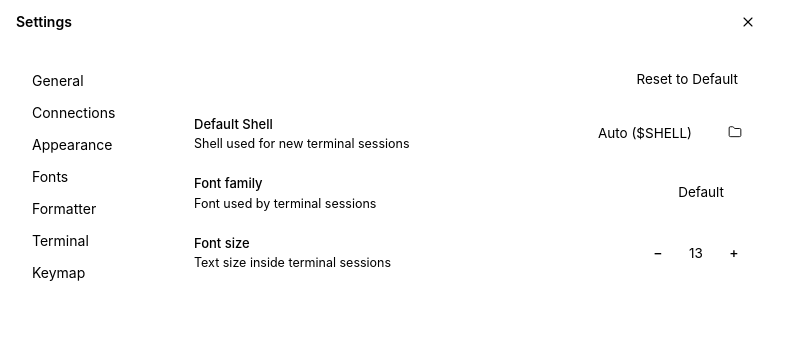
Test: SettingsView Terminal pane › loads shells and persists picker selection
Step 1. Click the button with test id "terminal-shell-select" → (652, 134), box [588, 121, 716, 147]
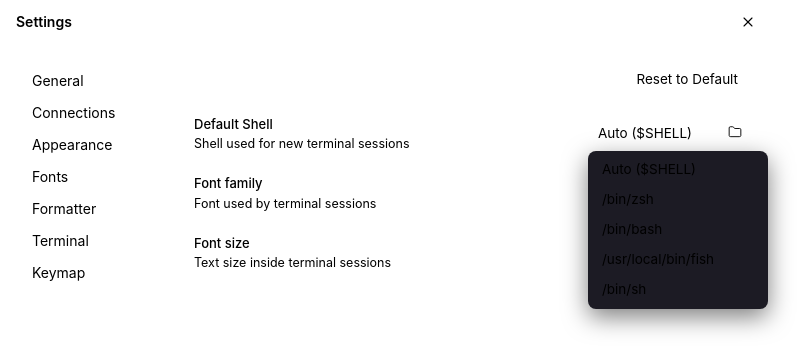
Step 2. Click the option "/bin/bash" → (632, 229), box [602, 221, 662, 237]
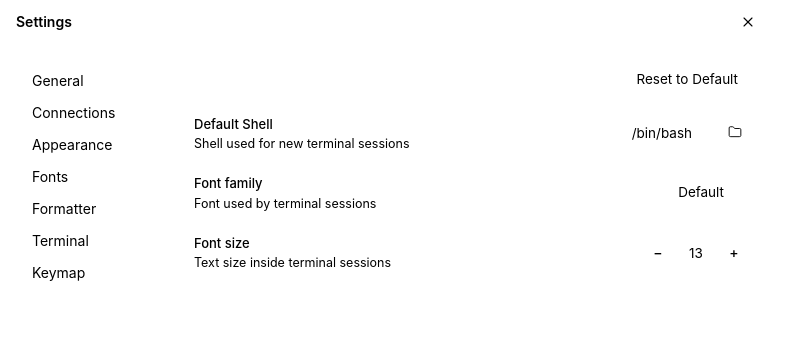
Check: the text "/bin/bash" is shown, box [632, 127, 692, 140]
